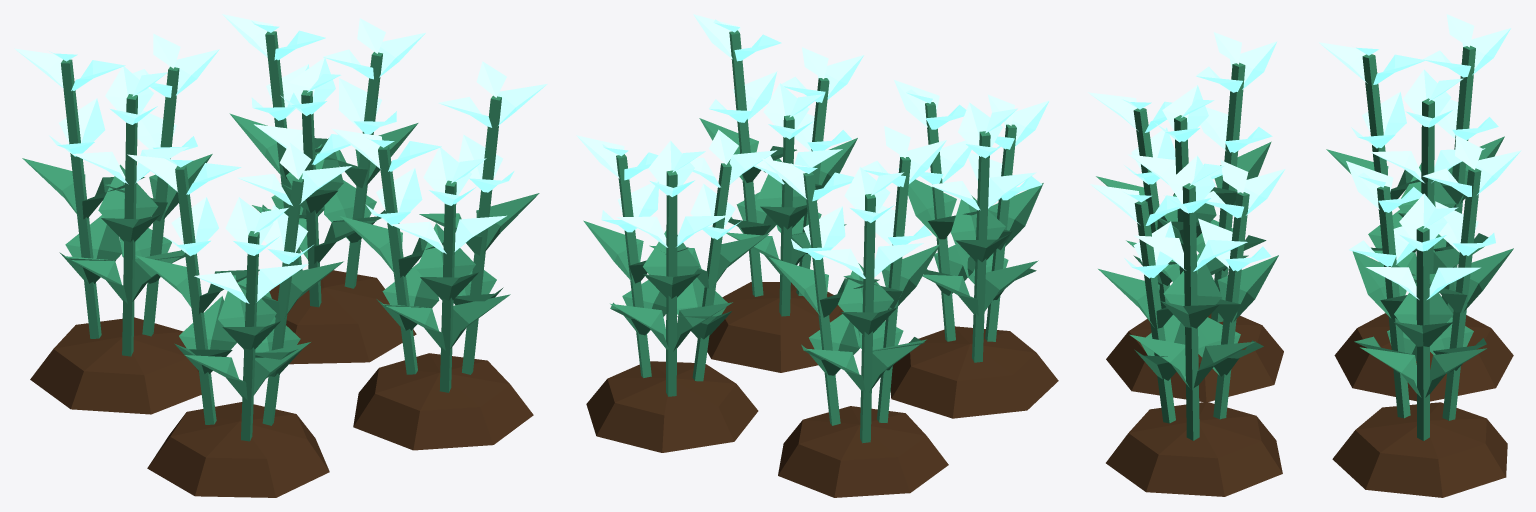
Rendered from crop_mint.glb.
The picture shows the model from 3 angles, left to right: view 1: azimuth 30°, elevation 25°; view 2: azimuth 150°, elevation 25°; view 3: azimuth 270°, elevation 25°; orthographic projection. The views are drawn at different scales.
Parts seen in each view (by area): view 1: Plant, Mounds, Fruit_6, Fruit_5, Fruit_9, Fruit_11, Fruit_3, Fruit_2, Fruit_10, Fruit_1, Fruit_4, Fruit_0 (+2 smaller); view 2: Plant, Mounds, Fruit_4, Fruit_1, Fruit_7, Fruit_8, Fruit_9, Fruit_2, Fruit_11, Fruit_0, Fruit_3, Fruit_10 (+2 smaller); view 3: Plant, Mounds, Fruit_4, Fruit_6, Fruit_7, Fruit_9, Fruit_10, Fruit_1, Fruit_0, Fruit_2, Fruit_8, Fruit_3 (+2 smaller).
Boxes of the visible parts, box(x1,y1,x2,y2) form: Plant: box(22, 31, 539, 441); Mounds: box(30, 270, 533, 497); Fruit_6: box(323, 18, 425, 134); Fruit_5: box(194, 197, 308, 303); Fruit_9: box(439, 61, 547, 192); Fruit_11: box(391, 147, 506, 253); Fruit_3: box(237, 142, 351, 264); Fruit_2: box(72, 66, 188, 184); Fruit_10: box(331, 128, 441, 226); Fruit_1: box(14, 48, 125, 156); Fruit_4: box(127, 154, 241, 256); Fruit_0: box(132, 33, 219, 158); Plant: box(583, 30, 1043, 443); Mounds: box(586, 282, 1058, 497); Fruit_4: box(929, 102, 1036, 210); Fruit_1: box(813, 167, 923, 278); Fruit_7: box(616, 140, 727, 247); Fruit_8: box(690, 129, 776, 239); Fruit_9: box(693, 14, 781, 122); Fruit_2: box(862, 126, 946, 245); Fruit_11: box(781, 47, 863, 151); Fruit_0: box(761, 158, 854, 259); Fruit_3: box(894, 80, 971, 184); Fruit_10: box(754, 83, 842, 184); Plant: box(1096, 45, 1513, 440); Mounds: box(1106, 313, 1513, 497); Fruit_4: box(1195, 32, 1277, 152); Fruit_6: box(1366, 193, 1480, 299); Fruit_7: box(1422, 135, 1521, 255); Fruit_9: box(1133, 155, 1247, 271); Fruit_10: box(1198, 160, 1285, 271); Fruit_1: box(1422, 14, 1510, 140); Fruit_0: box(1370, 69, 1485, 183); Fruit_2: box(1319, 42, 1425, 148); Fruit_8: box(1346, 161, 1422, 266); Fruit_3: box(1128, 85, 1222, 184).
Bounding box in the file's own units: 0.791 × 0.6577 × 0.8028.
